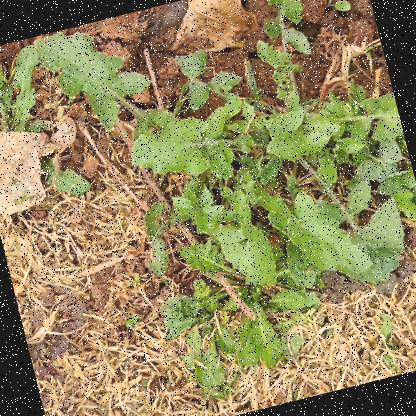Weeds: (35, 0, 415, 410), (0, 39, 94, 219)
